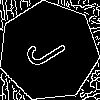J: (23, 26, 76, 72)
